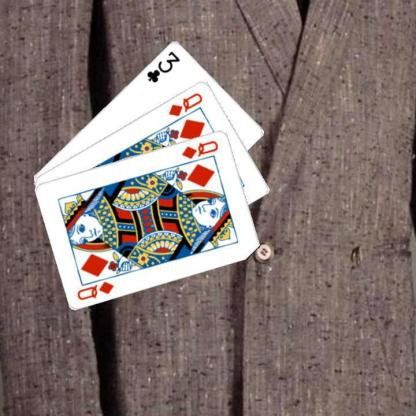3C: (144, 48, 181, 84)
QD: (166, 90, 204, 117), (74, 279, 116, 301), (179, 138, 220, 160)
